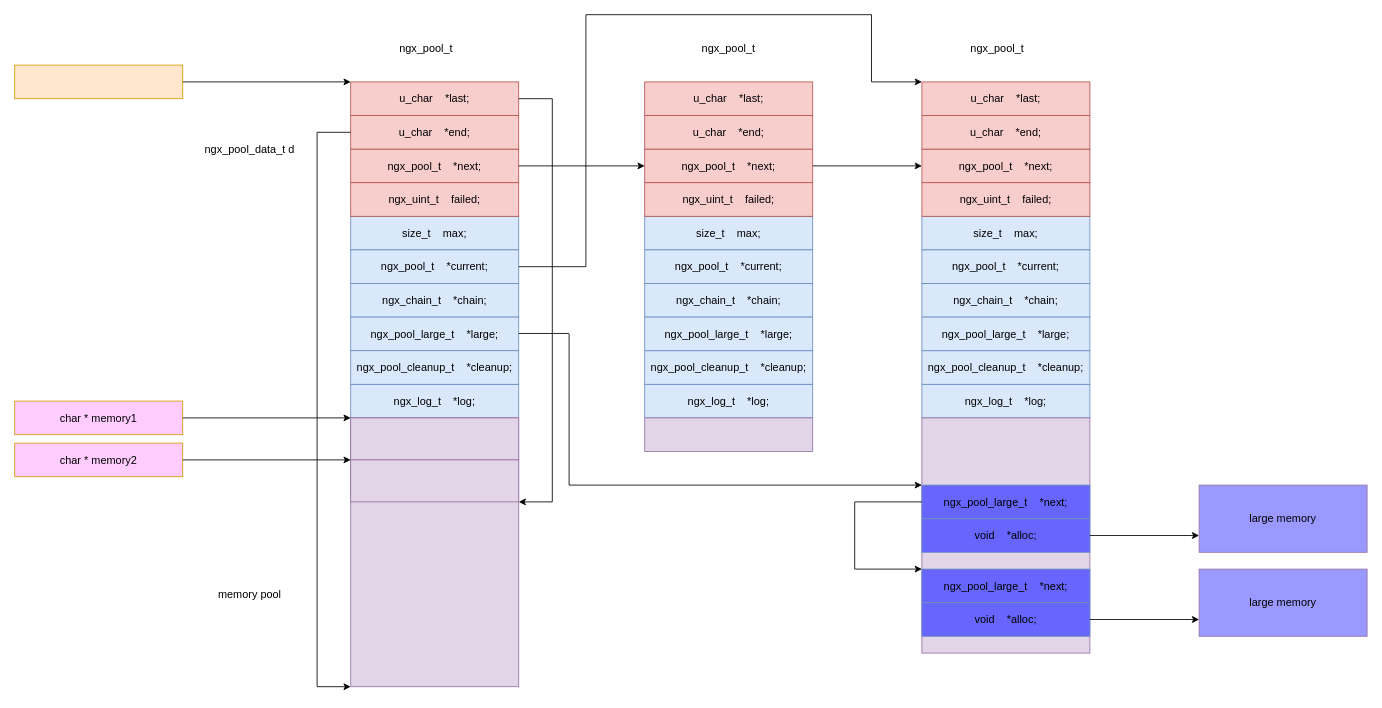
This 1382x708 diagram has some shape labels left out. Here are the shapes that lost their labels. From the top down, the centre of each, then its label:
At point (98, 81): "ngx_pool_t * p".
At point (434, 438): "block 1".
At point (434, 480): "block 2".
